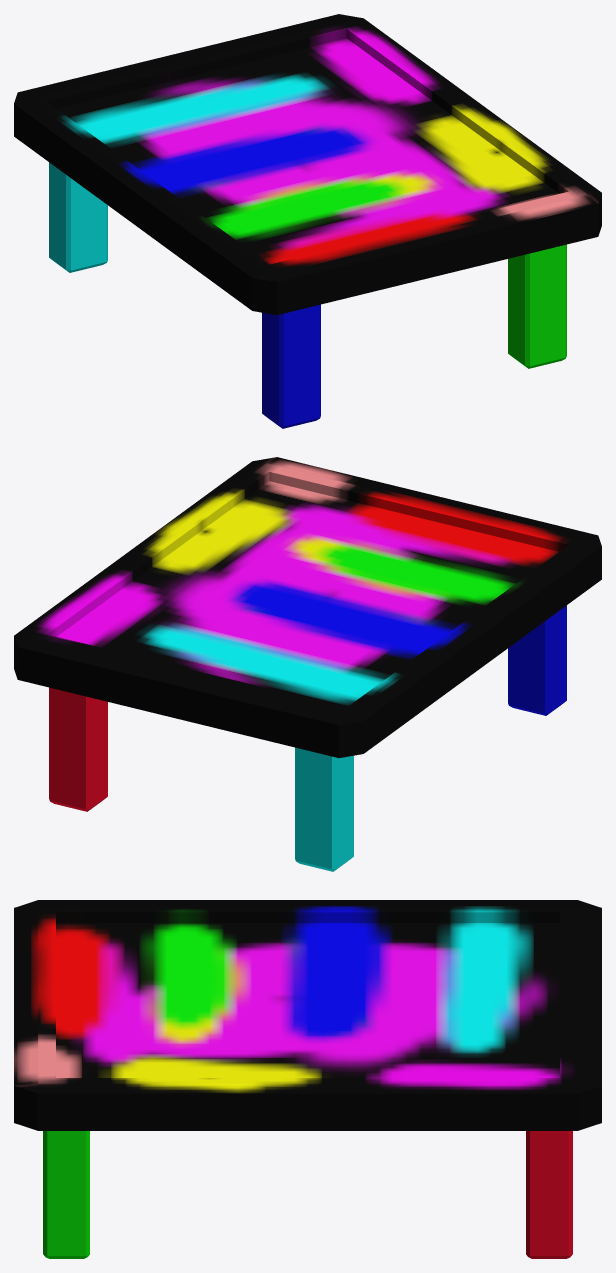
The model's file is table.fbx_Collection.fbx.
3 views of the same model, one above another, from view 1: azimuth 30°, elevation 25°; view 2: azimuth 150°, elevation 25°; view 3: azimuth 270°, elevation 25° (orthographic). The views are drawn at different scales.
Visible parts, largest first — view 1: Cube.004, Cube.003, Cube.002, Cube.001; view 2: Cube.004, Cube.001, Cube, Cube.003; view 3: Cube.004, Cube, Cube.002.
Boxes of the visible parts, x1,y1,x2,y2 form: Cube.004: (14, 14, 601, 314); Cube.003: (262, 304, 320, 428); Cube.002: (508, 244, 566, 368); Cube.001: (49, 162, 107, 272); Cube.004: (14, 457, 601, 757); Cube.001: (295, 747, 353, 871); Cube: (49, 687, 107, 811); Cube.003: (508, 605, 566, 715); Cube.004: (14, 900, 601, 1130); Cube: (526, 1131, 572, 1258); Cube.002: (43, 1131, 89, 1258).
Bounding box in the file's own units: 569 × 256 × 731.
